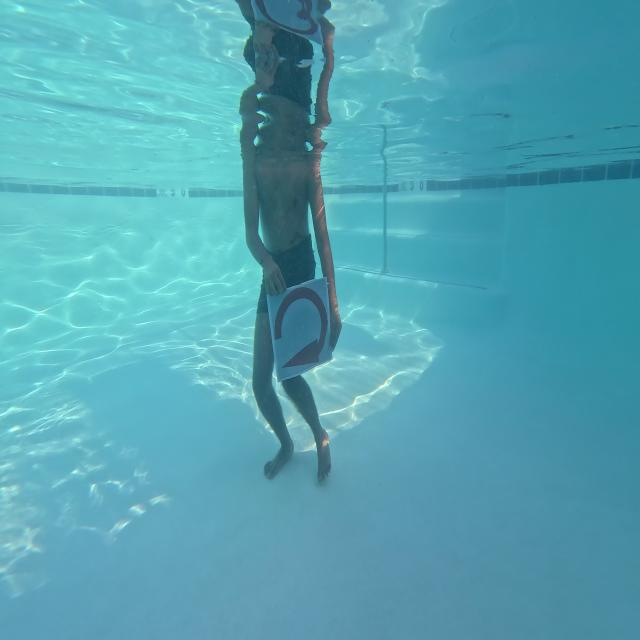red_side: (259, 268, 341, 386)
